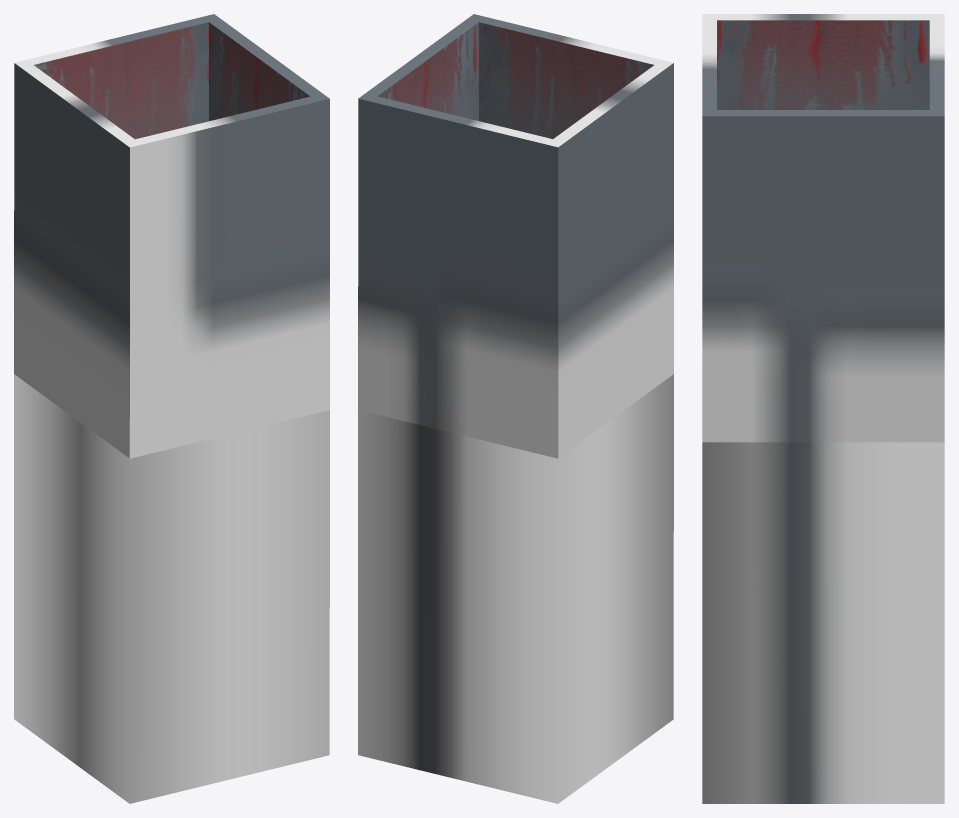
Rendered from Zidovi produzeni.fbx.
The picture shows the model from 3 angles, left to right: view 1: azimuth 30°, elevation 25°; view 2: azimuth 150°, elevation 25°; view 3: azimuth 270°, elevation 25°; orthographic projection. The views are drawn at different scales.
Visible parts, largest first — view 1: Cube_008.001; view 2: Cube_008.001; view 3: Cube_008.001.
Boxes of the visible parts, bbox=[...] form: Cube_008.001: bbox=[14, 14, 329, 803]; Cube_008.001: bbox=[358, 14, 673, 803]; Cube_008.001: bbox=[702, 14, 944, 803].
Bounding box in the file's own units: 153 × 481 × 154.
Materials: 2 (1 with a texture image).
